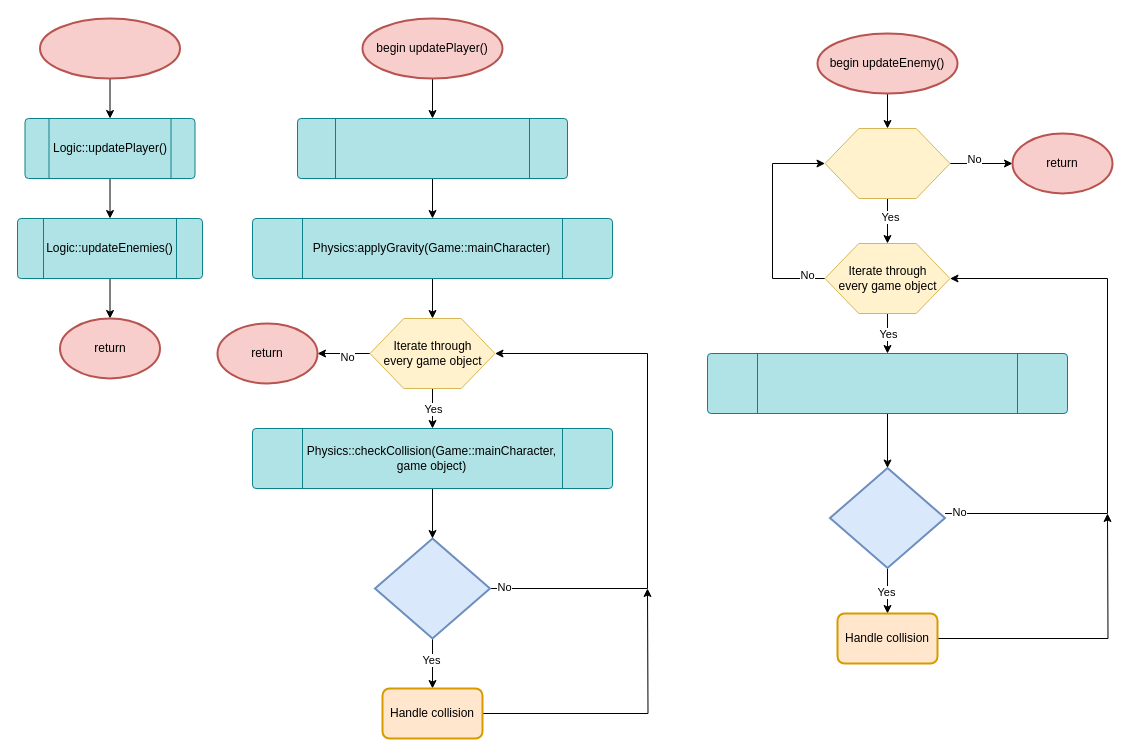
Some shapes in this 1134 by 756 pixel diagram are drawn without their labels. The shapes that lost their labels are listed below. From the top down, each one's centre as x and y in pixels, then its label:
the point at 109,48: begin updateLogic()
the point at 432,148: InputHandler::processInput()
the point at 887,163: Iterate through every enemy
the point at 887,383: Physics::checkCollision(enemy, game object)
the point at 887,517: Does the enemy collide?
the point at 432,588: Does the player collide?
